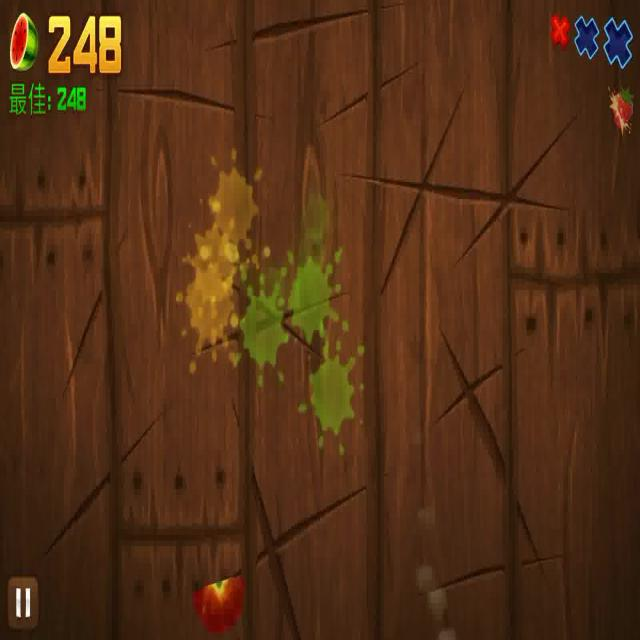fruit: (189, 572, 245, 635)
